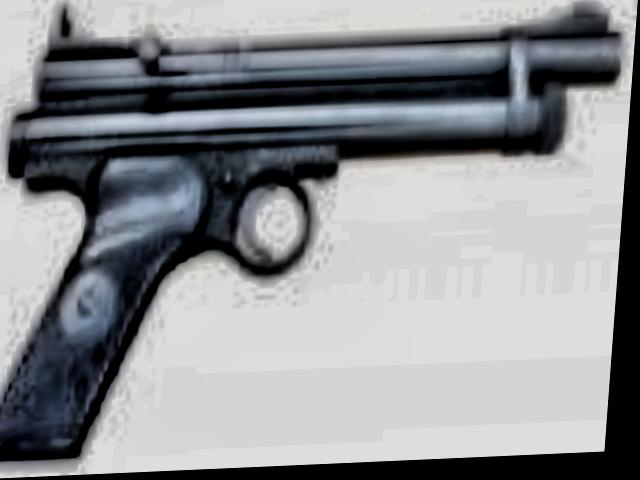pistol: (0, 0, 628, 460)
